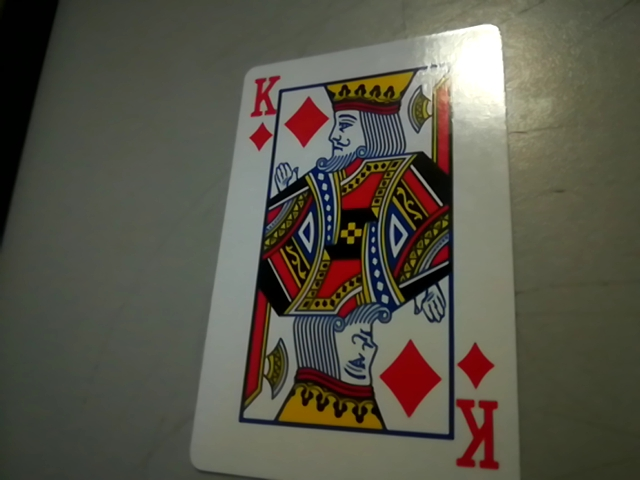fk k: (444, 336, 514, 477)
